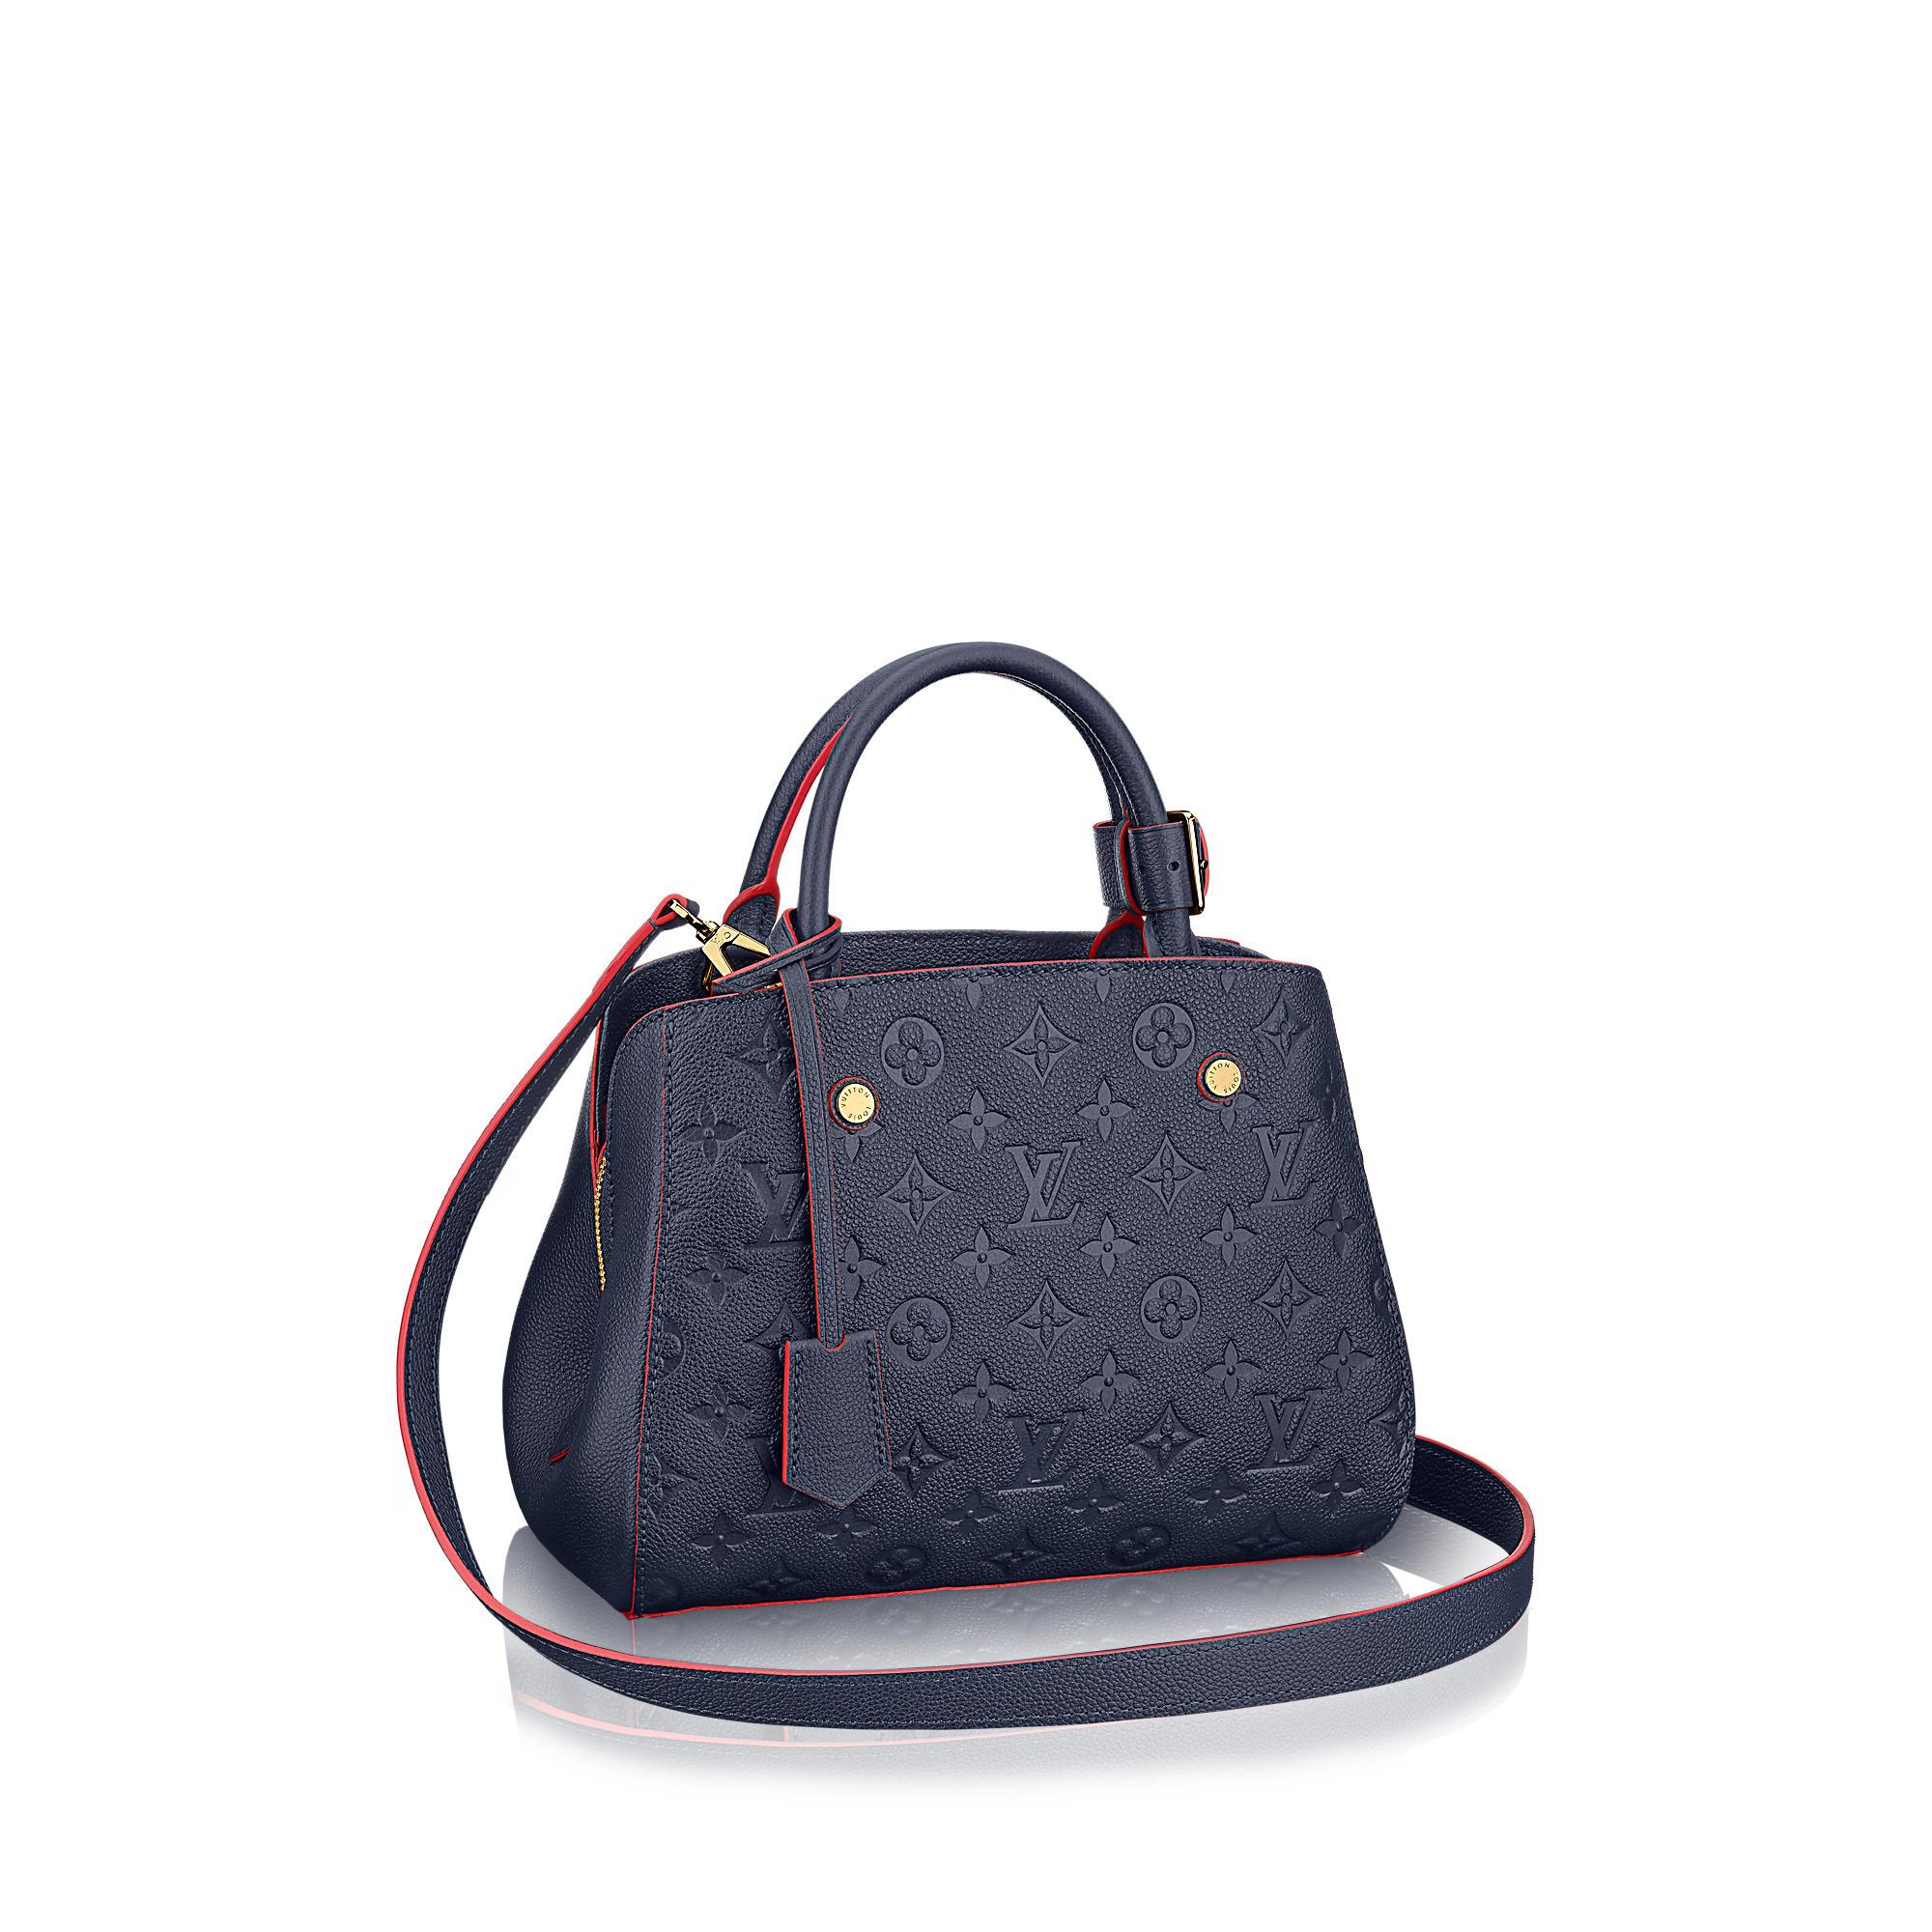LOUIS-VUITTON: (998, 1138, 1088, 1233), (991, 1405, 1086, 1495), (1242, 1385, 1325, 1476), (1244, 1118, 1320, 1214), (738, 1157, 814, 1253)
